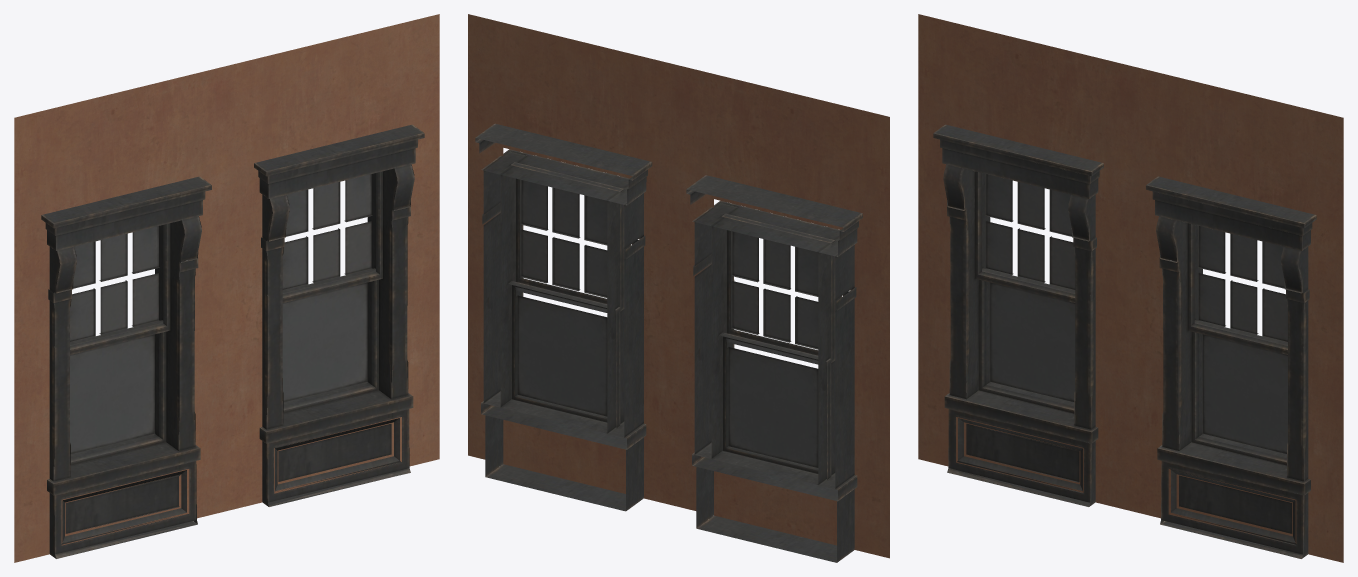
Rendered from bay_window_b.gltf.
3 views of the same model, side by side, from view 1: azimuth 30°, elevation 25°; view 2: azimuth 150°, elevation 25°; view 3: azimuth 330°, elevation 25° (orthographic).
Parts seen in each view (by area): view 1: bay_window_b; view 2: bay_window_b; view 3: bay_window_b.
Boxes of the visible parts, <box> form: bay_window_b: <box>14,14,439,562</box>; bay_window_b: <box>468,14,889,562</box>; bay_window_b: <box>918,14,1343,562</box>.
Size of the model in its own units: 3 by 3 by 0.3893.
Materials: 3 (3 with a texture image).
